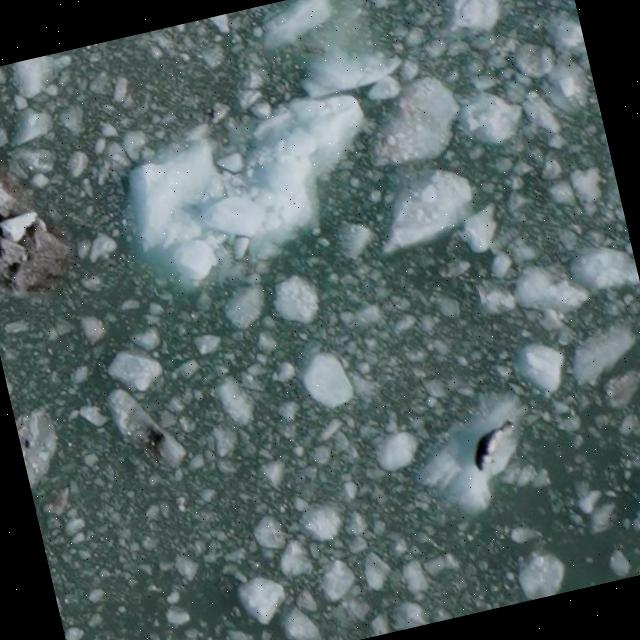seal: (464, 410, 516, 475)
